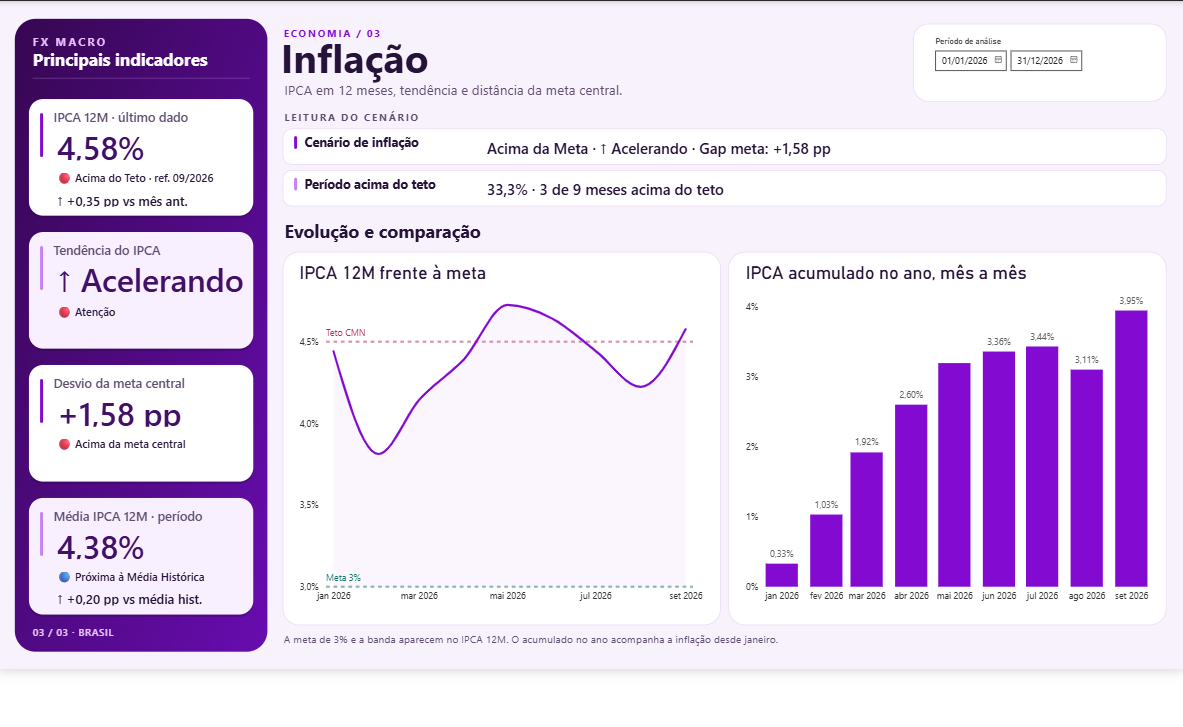

Layout of this report page (visuals, bound fields, positions):
{"tool":"powerbi","page":{"name":"Inflação","canvas":[1600,900],"ordinal":2},"visuals":[{"type":"image","box":[0,0,1600,900],"z":0},{"type":"cardVisual","fields":{"Data":["vw_macro_ipca_12m.IPCA 12M Último"]},"box":[75,170,265,50],"z":1000},{"type":"cardVisual","fields":{"Data":["vw_macro_ipca_12m.Badge IPCA Status"]},"box":[75,221,265,32],"z":1100},{"type":"cardVisual","fields":{"Data":["vw_macro_ipca_12m.IPCA 12M Variação Texto"]},"box":[75,253,265,30],"z":1200},{"type":"cardVisual","fields":{"Data":["vw_macro_ipca_12m.Tendência IPCA"]},"box":[75,349,265,50],"z":1300},{"type":"cardVisual","fields":{"Data":["vw_macro_ipca_12m.Badge Tendência Status"]},"box":[75,400,265,32],"z":1400},{"type":"cardVisual","fields":{"Data":["vw_macro_ipca_12m.IPCA Gap Meta"]},"box":[75,528,265,50],"z":1600},{"type":"cardVisual","fields":{"Data":["vw_macro_ipca_12m.Badge Gap Status"]},"box":[75,579,265,32],"z":1700},{"type":"cardVisual","fields":{"Data":["vw_macro_ipca_12m.IPCA 12M Média Histórica"]},"box":[75,707,265,50],"z":1900},{"type":"cardVisual","fields":{"Data":["vw_macro_ipca_12m.Badge IPCA Média Status"]},"box":[75,758,265,32],"z":2000},{"type":"cardVisual","fields":{"Data":["vw_macro_ipca_12m.IPCA Média Delta Texto"]},"box":[75,790,265,30],"z":2100},{"type":"cardVisual","fields":{"Data":["vw_macro_ipca_12m.Inflação Cenário Resumo"]},"box":[654,173,904,46],"z":3000},{"type":"cardVisual","fields":{"Data":["vw_macro_ipca_12m.Período Acima do Teto Texto"]},"box":[654,229,904,46],"z":3100},{"type":"areaChart","title":"IPCA 12M frente à meta","fields":{"Category":["Calendario.Date.Variation.Hierarquia de datas.Ano"],"Y":["vw_macro_ipca_12m.IPCA 12M Histórico"]},"box":[403,352,553,467],"z":4000},{"type":"clusteredColumnChart","title":"IPCA acumulado no ano, mês a mês","fields":{"Category":["Calendario.Date.Variation.Hierarquia de datas.Ano"],"Y":["vw_macro_monthly.IPCA Acumulado Anual"]},"box":[1003,352,553,467],"z":4100},{"type":"slicer","fields":{"Values":["Calendario.Date"]},"box":[1251,42,306,81],"z":5000}]}

Visuals, with their boxes on the page's 1600x900 design canvas (x1, y1, x2, y2). These are canvas units, not pixel positions in the 1183x727 screenshot, which may show the page scaled, cropped or inside an application window:
image: bbox(0, 0, 1600, 900)
cardVisual - vw_macro_ipca_12m.IPCA 12M Último: bbox(75, 170, 340, 220)
cardVisual - vw_macro_ipca_12m.Badge IPCA Status: bbox(75, 221, 340, 253)
cardVisual - vw_macro_ipca_12m.IPCA 12M Variação Texto: bbox(75, 253, 340, 283)
cardVisual - vw_macro_ipca_12m.Tendência IPCA: bbox(75, 349, 340, 399)
cardVisual - vw_macro_ipca_12m.Badge Tendência Status: bbox(75, 400, 340, 432)
cardVisual - vw_macro_ipca_12m.IPCA Gap Meta: bbox(75, 528, 340, 578)
cardVisual - vw_macro_ipca_12m.Badge Gap Status: bbox(75, 579, 340, 611)
cardVisual - vw_macro_ipca_12m.IPCA 12M Média Histórica: bbox(75, 707, 340, 757)
cardVisual - vw_macro_ipca_12m.Badge IPCA Média Status: bbox(75, 758, 340, 790)
cardVisual - vw_macro_ipca_12m.IPCA Média Delta Texto: bbox(75, 790, 340, 820)
cardVisual - vw_macro_ipca_12m.Inflação Cenário Resumo: bbox(654, 173, 1558, 219)
cardVisual - vw_macro_ipca_12m.Período Acima do Teto Texto: bbox(654, 229, 1558, 275)
"IPCA 12M frente à meta" areaChart: bbox(403, 352, 956, 819)
"IPCA acumulado no ano, mês a mês" clusteredColumnChart: bbox(1003, 352, 1556, 819)
slicer - Calendario.Date: bbox(1251, 42, 1557, 123)
